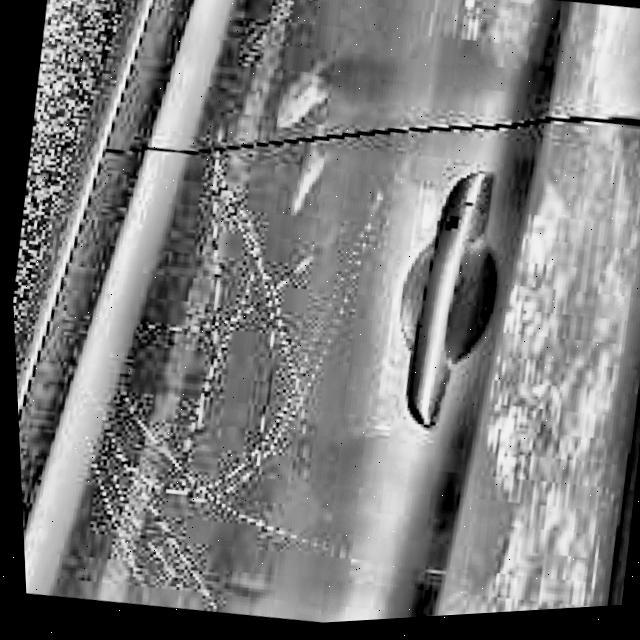door_scratch: (51, 131, 417, 637)
